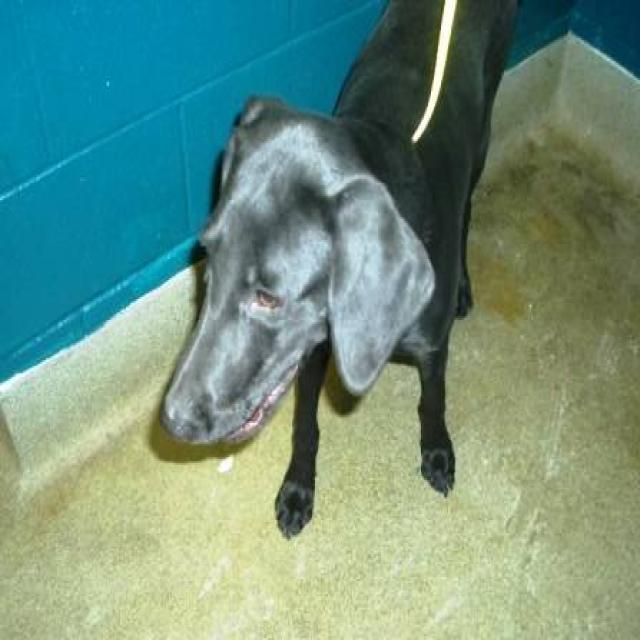dogs: (151, 0, 537, 552)
